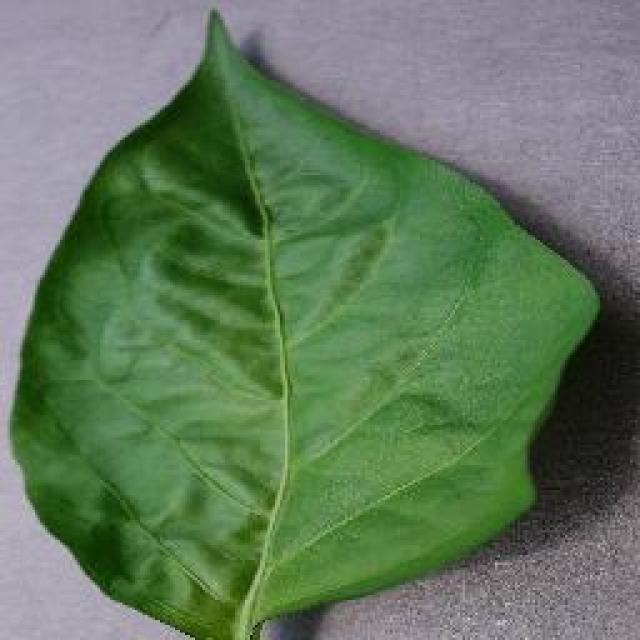Leaf: (12, 2, 621, 626)
